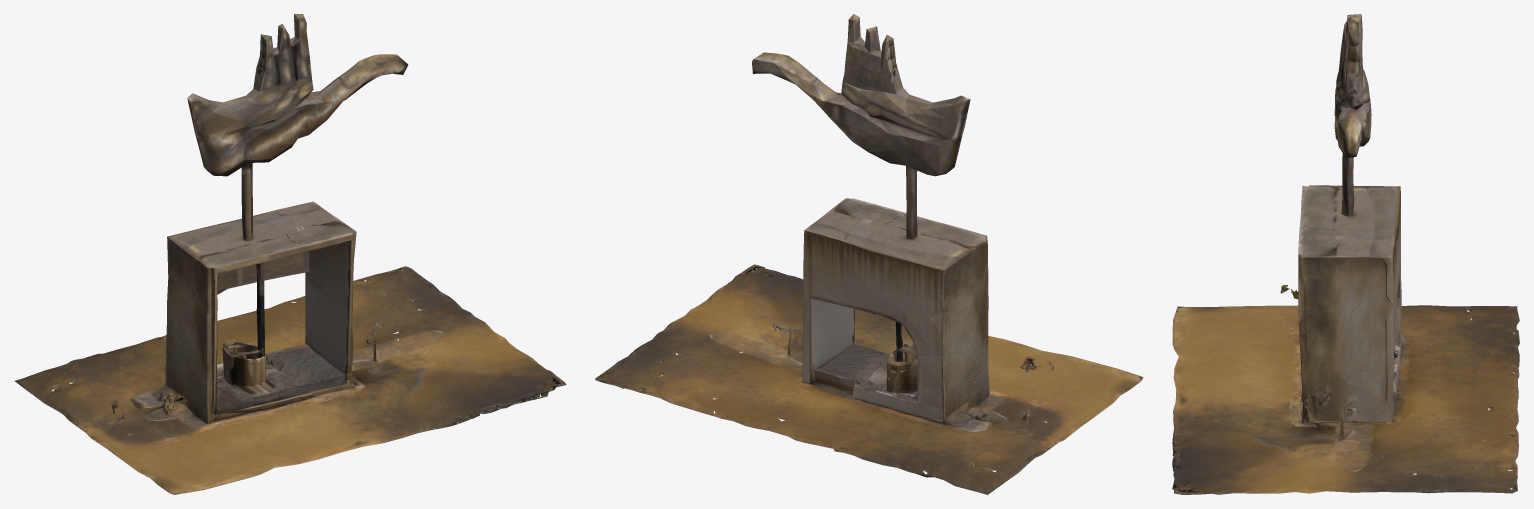
Rendered from CUhand.fbx.
3 renders of one model, left to right at view 1: azimuth 30°, elevation 25°; view 2: azimuth 150°, elevation 25°; view 3: azimuth 270°, elevation 25°, orthographic. The views are drawn at different scales.
Visible parts, largest first — view 1: temp; view 2: temp; view 3: temp.
Boxes of the visible parts, <box> form: temp: <box>15,14,566,494</box>; temp: <box>595,14,1143,494</box>; temp: <box>1172,14,1519,494</box>.
Size of the model in its own units: 200 by 181 by 142.
Materials: 1 (1 with a texture image).
